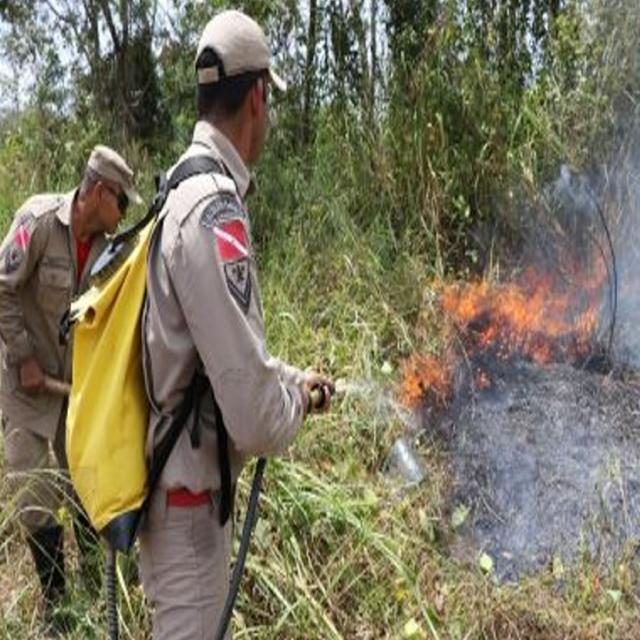Fire: (417, 242, 610, 364), (398, 347, 457, 407), (578, 566, 600, 596), (472, 366, 492, 388)
Smoke: (464, 385, 640, 563), (554, 124, 640, 364)
